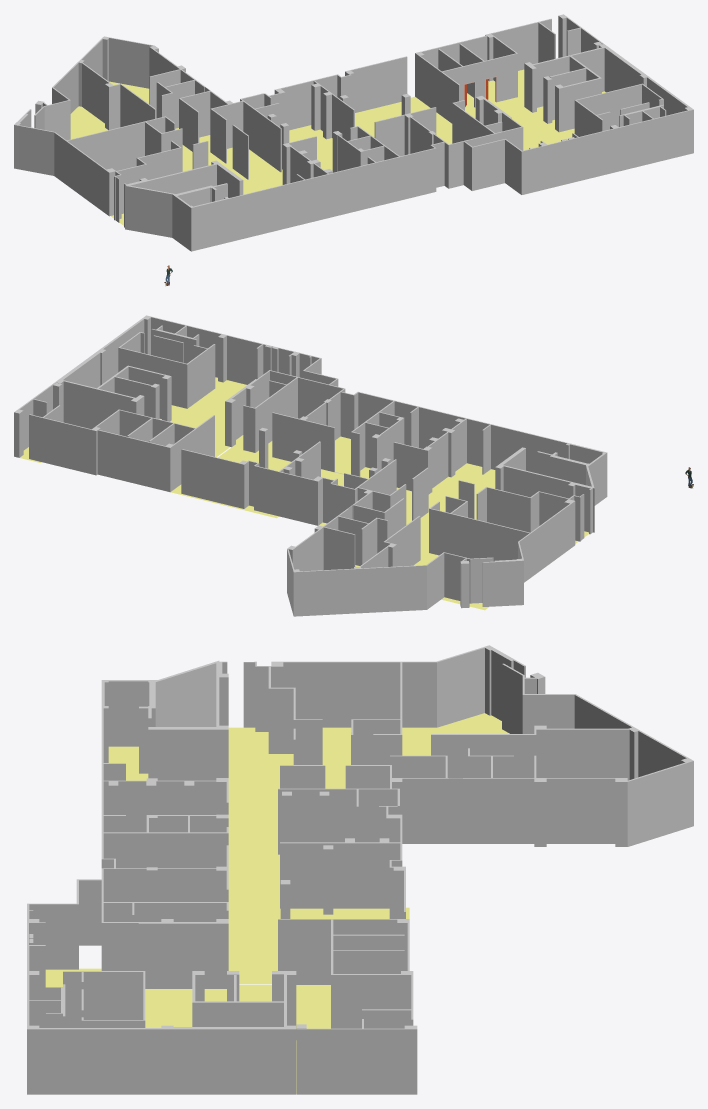
Rendered from 2ND FLOOR.fbx.
3 views of the same model, one above another, from view 1: azimuth 30°, elevation 25°; view 2: azimuth 150°, elevation 25°; view 3: azimuth 270°, elevation 25° (orthographic). The views are drawn at different scales.
Visible parts, largest first — view 1: Group320, Group311, Group314, Group101, Group318, Group164, Group279, Group281, Group298, Group76, Group313, Group239 (+59 smaller); view 2: Group320, Group311, Group313, Group279, Group101, Group264, Group268, Group316, Group202, Group86, Group76, Group280 (+61 smaller); view 3: Group320, Group95, Group74, Group220, Group57, Group298, Group273, Group122, Group281, Group308, Group164, Group280 (+54 smaller).
Part boxes in pixels (x1,y1,x2,y2): Group320: (70, 69, 605, 225); Group311: (67, 116, 175, 170); Group314: (125, 181, 175, 237); Group101: (533, 55, 601, 130); Group318: (463, 139, 505, 190); Group164: (109, 37, 153, 88); Group279: (574, 83, 663, 133); Group281: (419, 56, 460, 123); Group298: (243, 101, 281, 172); Group76: (579, 128, 614, 180); Group313: (116, 140, 181, 213); Group239: (193, 198, 226, 250); Group320: (20, 377, 588, 610); Group311: (429, 501, 529, 561); Group313: (476, 486, 568, 532); Group279: (118, 332, 187, 408); Group101: (95, 365, 165, 425); Group264: (376, 565, 413, 612); Group268: (306, 569, 342, 615); Group316: (425, 552, 466, 609); Group202: (503, 465, 571, 498); Group86: (63, 380, 96, 429); Group76: (227, 335, 262, 384); Group280: (187, 344, 215, 407); Group320: (45, 713, 509, 1093); Group95: (39, 1028, 161, 1094); Group74: (173, 1027, 283, 1094); Group220: (280, 842, 400, 908); Group57: (138, 923, 220, 988); Group298: (278, 788, 389, 854); Group273: (103, 832, 226, 868); Group122: (296, 1028, 361, 1094); Group281: (278, 919, 397, 984); Group308: (546, 728, 629, 780); Group164: (627, 762, 686, 846); Group280: (63, 971, 143, 1027).
Size of the model in its own units: 44.87 by 3.53 by 33.04.
